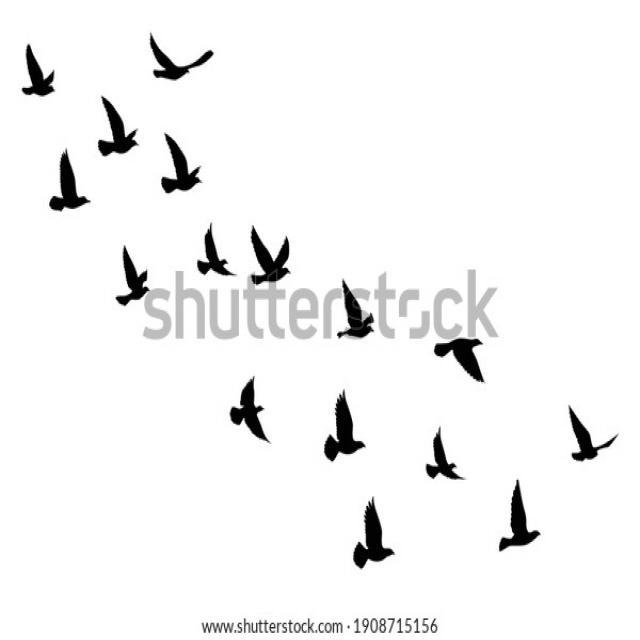bird: (213, 370, 320, 468), (306, 381, 388, 488), (329, 469, 407, 569), (38, 129, 107, 239), (537, 383, 617, 476), (146, 103, 220, 201), (416, 321, 496, 404), (185, 198, 244, 292), (492, 471, 550, 564), (8, 27, 70, 112), (237, 202, 301, 282), (138, 28, 220, 90), (109, 238, 164, 330), (328, 280, 386, 354), (96, 84, 141, 164), (408, 420, 466, 480)
